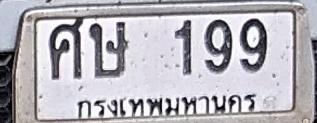1: (174, 19, 192, 75)
9: (204, 19, 232, 73), (240, 18, 267, 72)
A38: (49, 16, 83, 79)
A39: (88, 21, 128, 78)
BKK: (73, 90, 261, 119)
